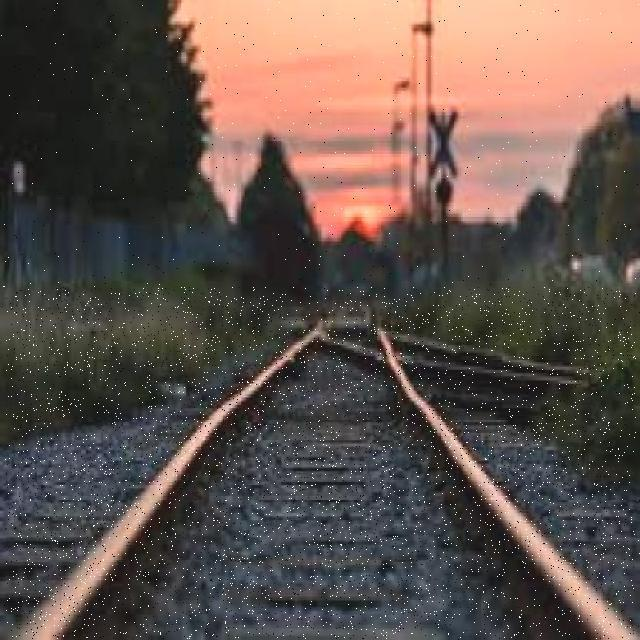rail: (6, 288, 636, 639)
